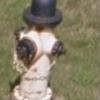a fire hydrant: (12, 0, 64, 100)
